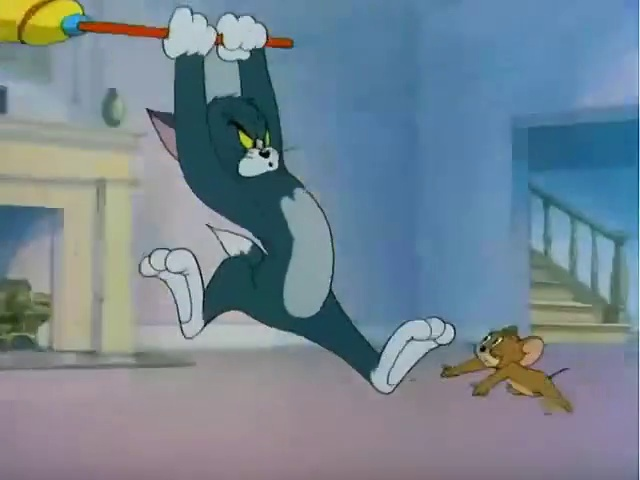jerry: (436, 314, 603, 429)
tom: (121, 10, 455, 408)
